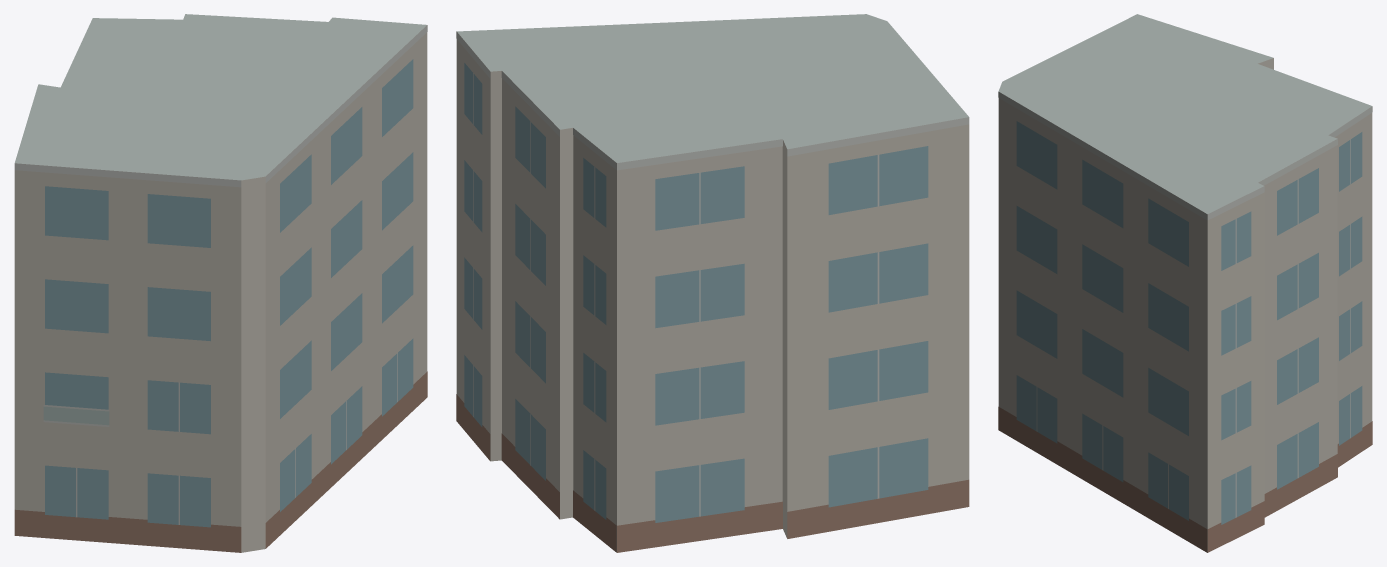
File: survey-upis-32564399.glb
3 views of the same model, side by side, from view 1: azimuth 30°, elevation 25°; view 2: azimuth 150°, elevation 25°; view 3: azimuth 270°, elevation 25° (orthographic). The views are drawn at different scales.
Parts seen in each view (by area): view 1: survey-upis-32564399.tmp; view 2: survey-upis-32564399.tmp; view 3: survey-upis-32564399.tmp.
Boxes of the visible parts, x1,y1,x2,y2 form: survey-upis-32564399.tmp: [14, 14, 427, 552]; survey-upis-32564399.tmp: [456, 14, 969, 552]; survey-upis-32564399.tmp: [998, 14, 1372, 552].
Bounding box in the file's own units: 16.63 × 13.11 × 13.13.
